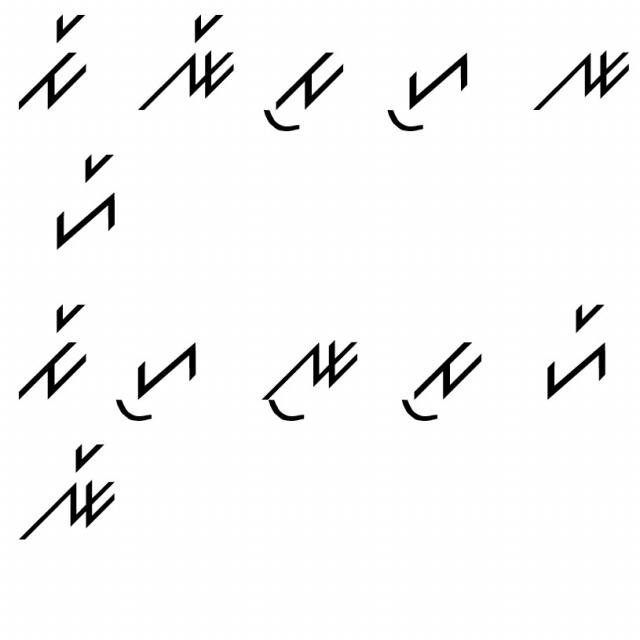har: (532, 293, 616, 408), (50, 141, 124, 253)
haw: (368, 51, 478, 137), (106, 332, 202, 426)
mbar: (9, 7, 101, 112), (10, 293, 92, 404)
mbaw: (389, 334, 493, 430), (258, 32, 348, 142)
nda: (529, 41, 632, 113)
ndar: (20, 441, 128, 543), (133, 12, 238, 116)
ndaw: (256, 330, 364, 427)
